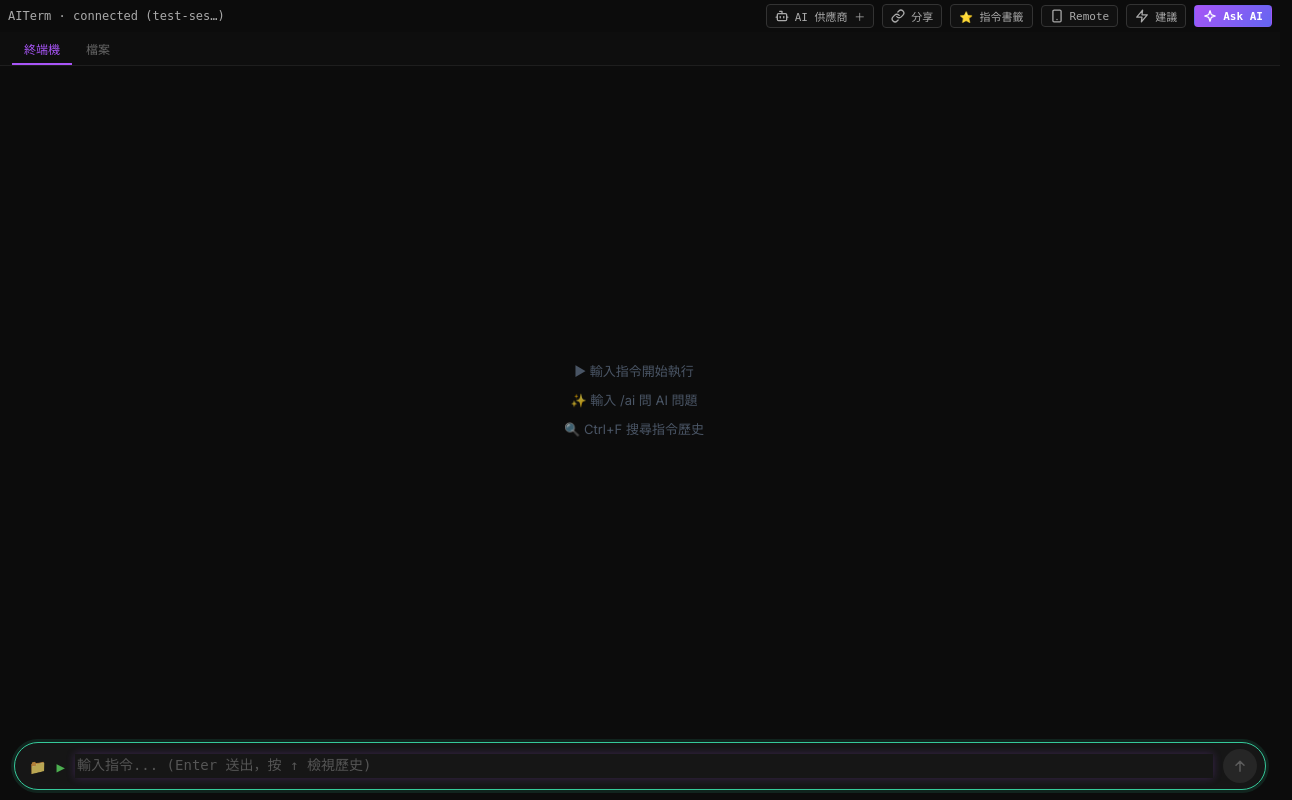
it: 建議側欄與終端機並排 › 開關按鈕開出的側欄是終端機的兄弟欄（並排），不是疊在終端機裡；再按一次關閉
Click the button with class "aiterm-sugg-toggle". click: (1156, 16)
box: [1126, 4, 1186, 28]
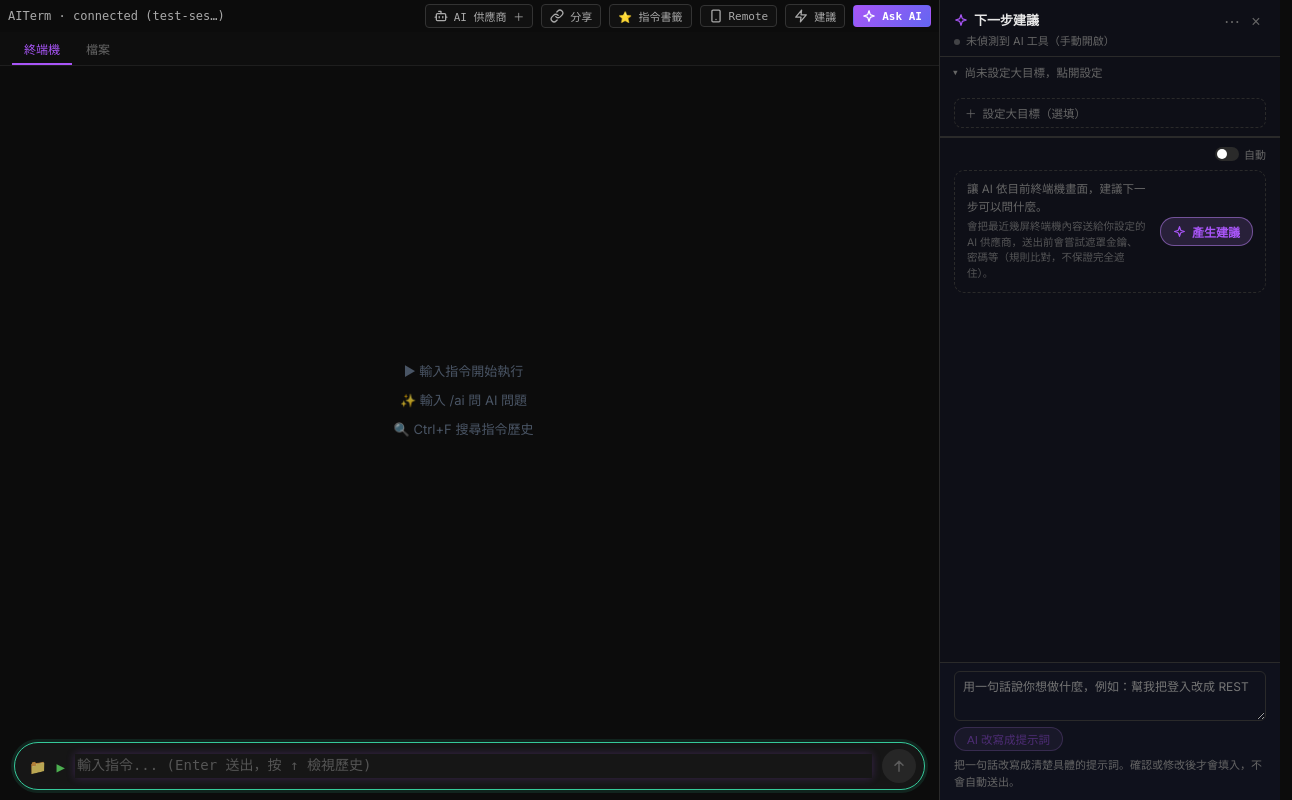
Check: the element with test id "block-list-empty" is shown, box [394, 362, 533, 436]
Check: the element with class "aiterm-sugg-sidebar" is shown, box [940, 0, 1280, 799]
Check: the element with class "aiterm-sugg-split__side" shows "手動開啟", box [966, 34, 1115, 48]
Click the button with class "aiterm-sugg-toggle". click: (815, 16)
box: [785, 4, 845, 28]
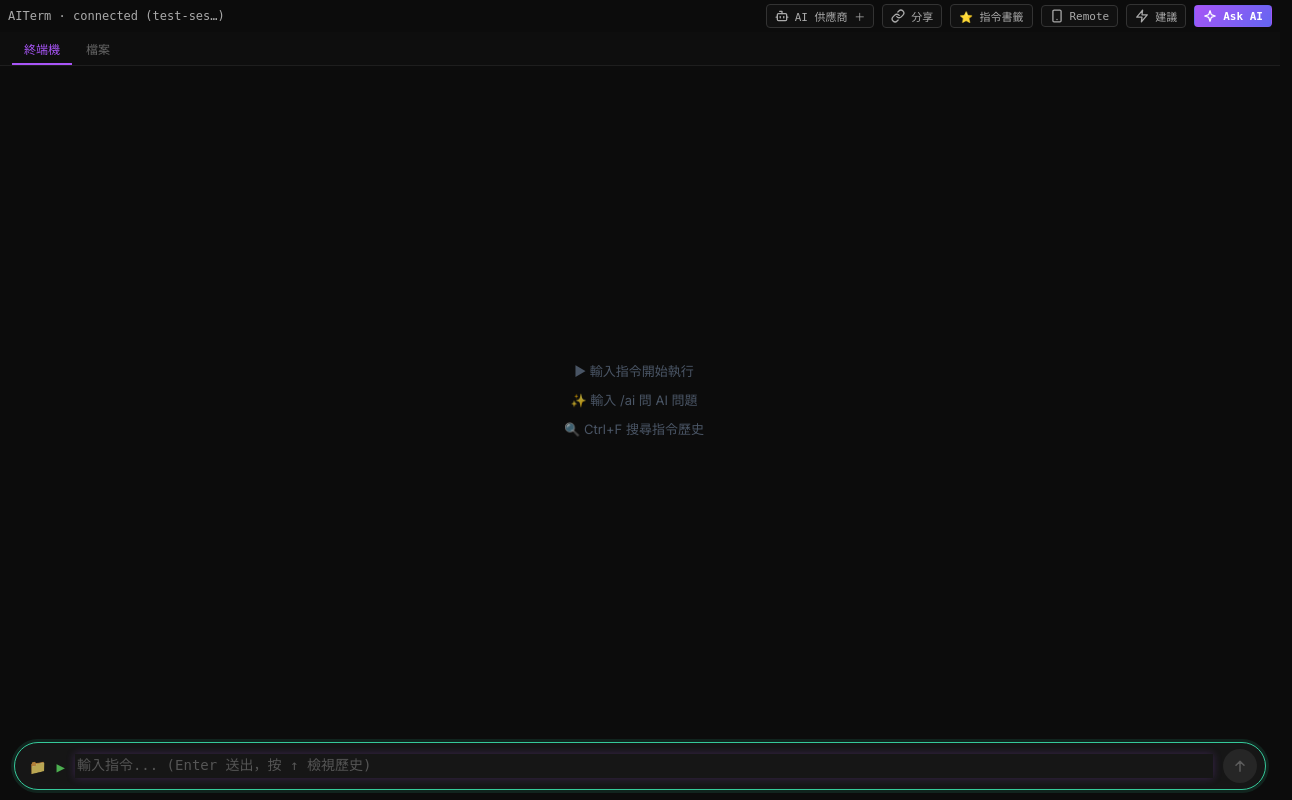
Check: the element with class "aiterm-sugg-sidebar" is gone
